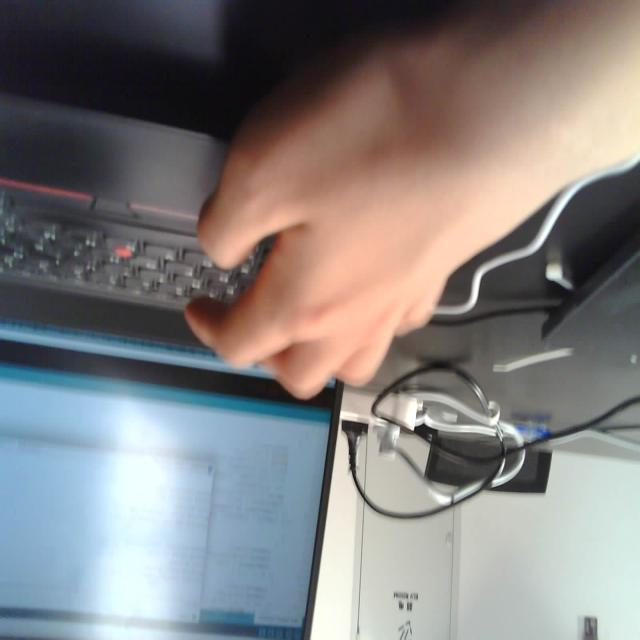keyboard-with-hands: (0, 86, 365, 352)
